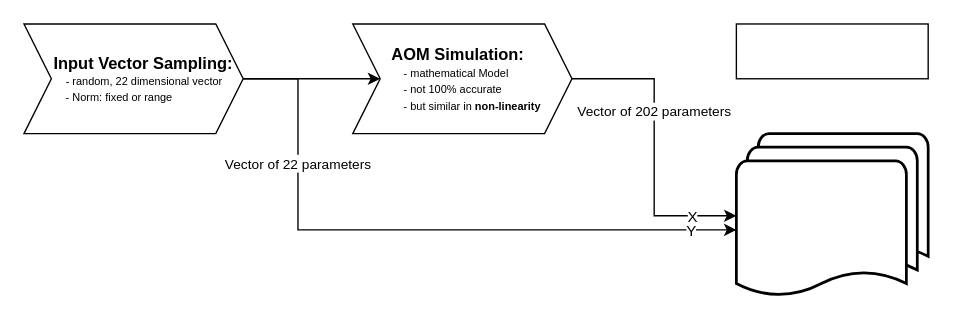
Image size: 954x323. Some labels were removed from this diagram. The shapes that lost their labels are listed below. From the top down, each one's centre as x and y in pixels, then its label:
At point (831, 51): "X = Input of Model Y = Output of Model".
At point (831, 215): "Training Data".
